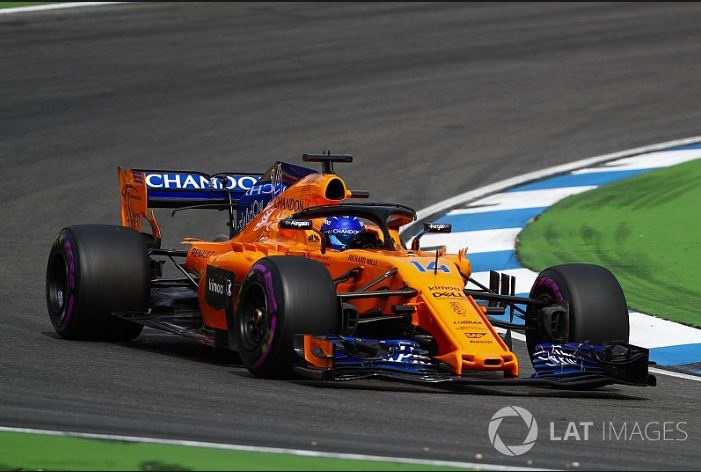F1 Car: (45, 144, 660, 397)
